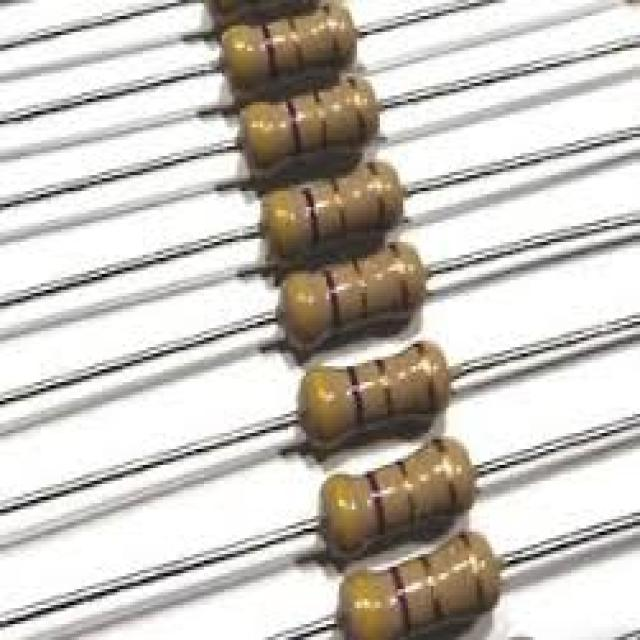Resistor: (319, 434, 478, 557), (338, 530, 500, 638), (279, 243, 425, 354), (300, 342, 449, 449), (262, 166, 402, 262), (219, 1, 357, 93), (240, 80, 378, 172)
